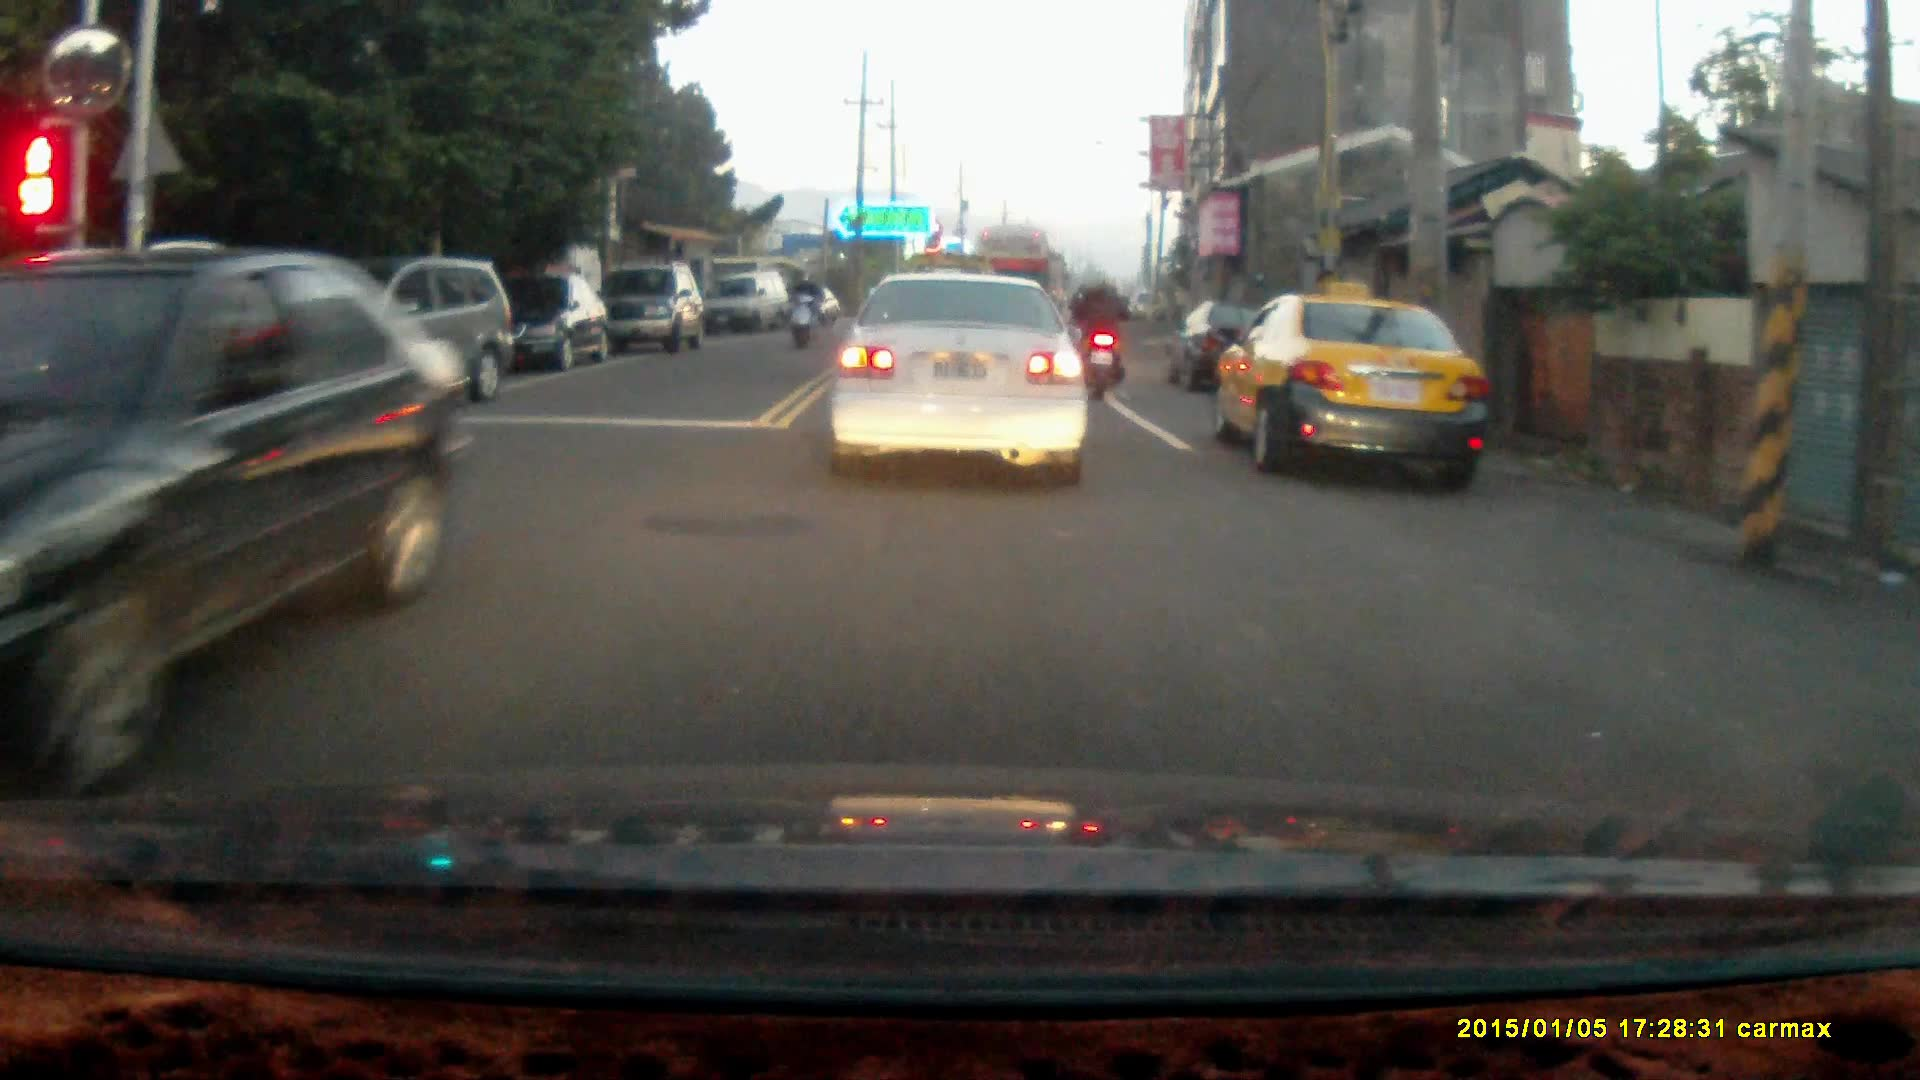rider: (1069, 269, 1129, 404), (784, 268, 819, 350)
vehicle: (1, 269, 474, 754), (824, 283, 1100, 498), (1218, 294, 1492, 494), (475, 272, 609, 373), (600, 269, 702, 364), (710, 269, 794, 337)
